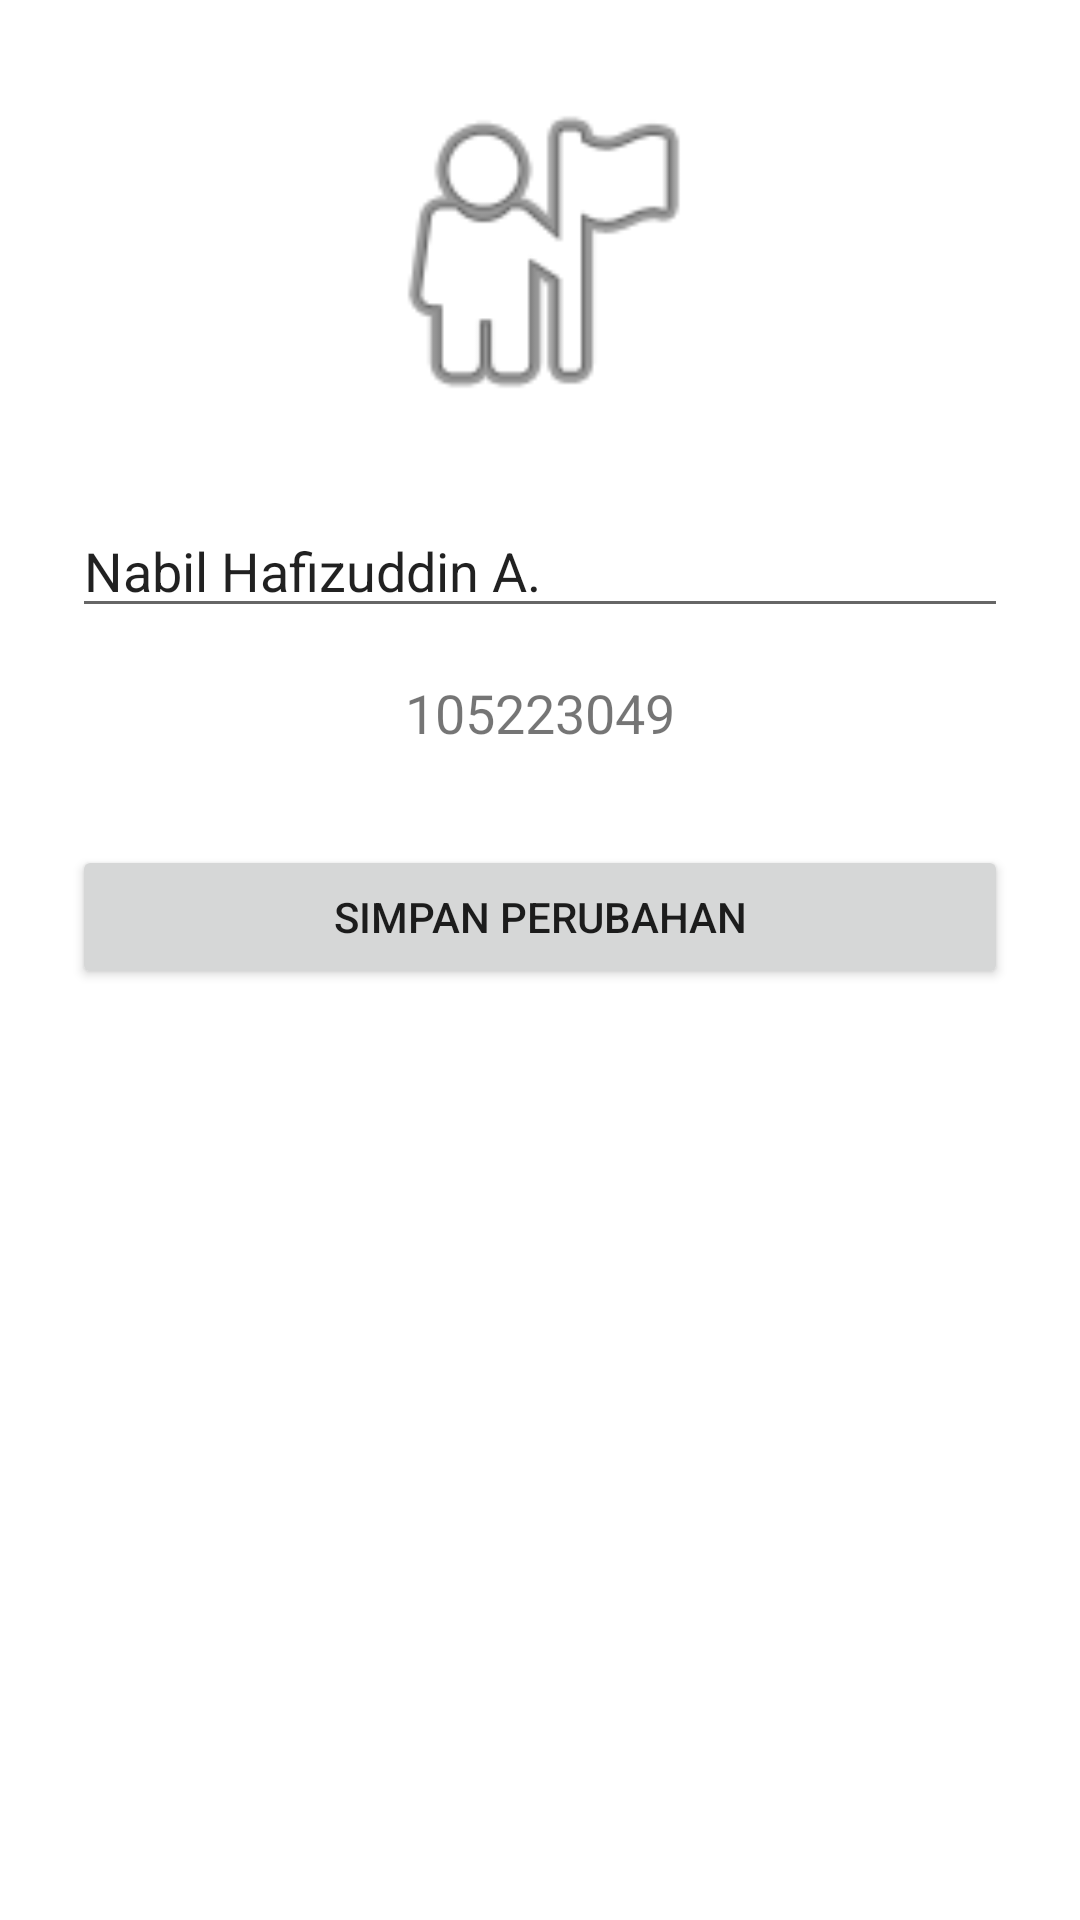

Icons on this 1080 × 1920 Android screen, each with the point to tap as (x,y):
Profile Picture: (543,252)
